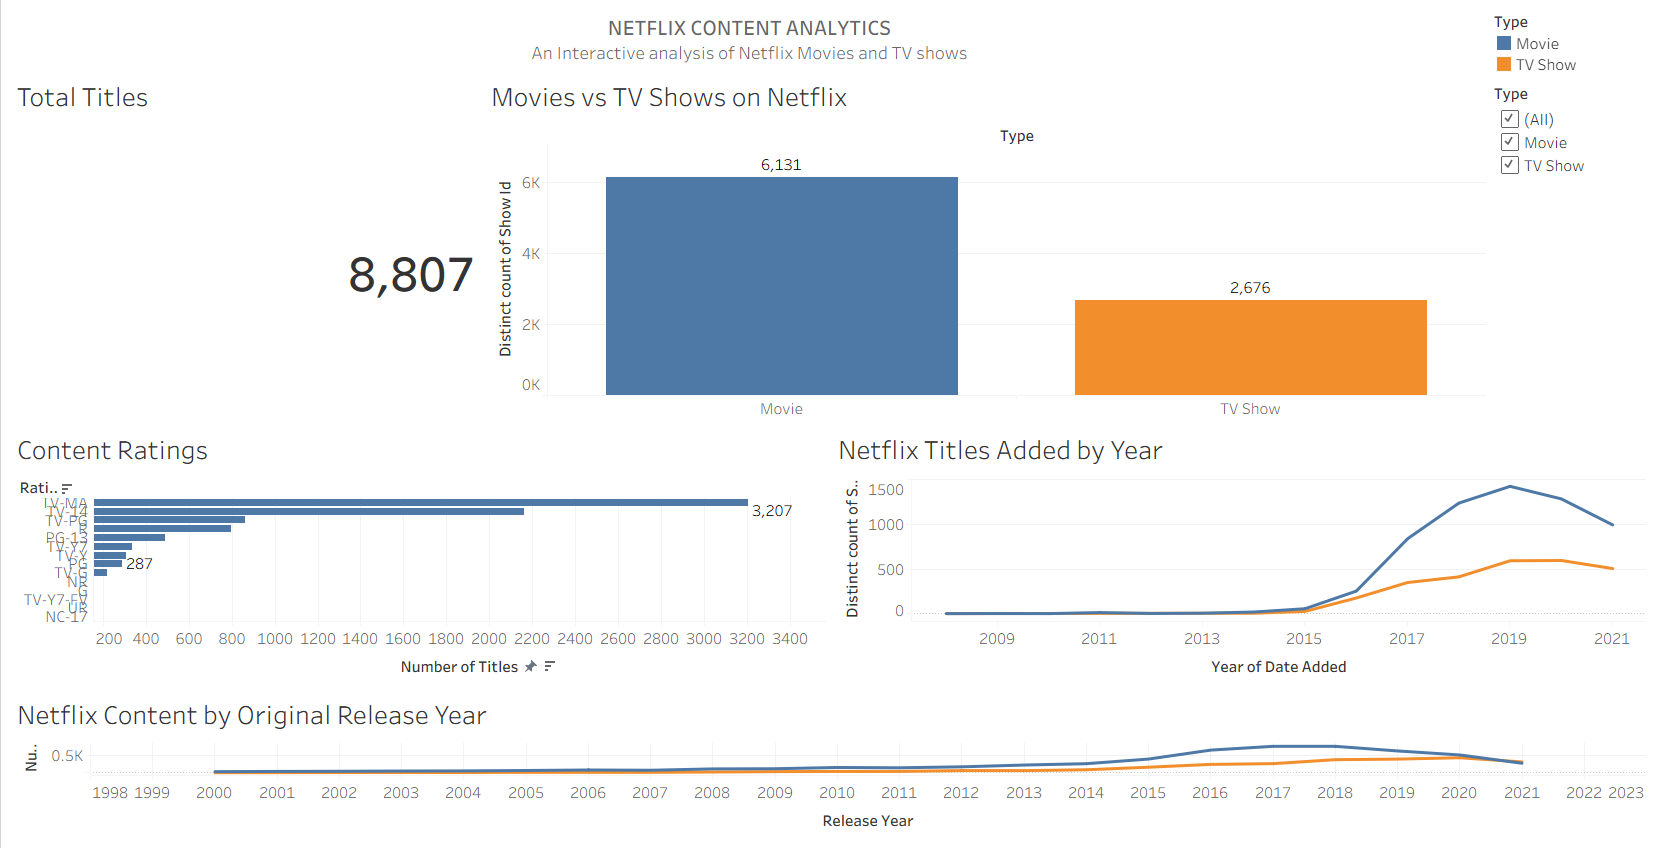

What the dashboard file says about the page in this screenshot:
{"tool":"tableau","page":{"name":"Netflix Overview Dashboard","canvas":[1000,1000],"units":"permille","ordinal":2},"visuals":[{"type":"text","box":[4.8,9.4,893.8,75.6]},{"type":"legend","title":"Movies vs TV Shows on Netflix","param":"[federated.0eufnai0agxeri1cmofw512g7qs7].[none:type:nk]","box":[898.6,9.4,96.6,84.6]},{"type":"worksheet","title":"Total Titles","mark":"Automatic","box":[4.8,85,285.9,414.9]},{"type":"worksheet","title":"Movies vs TV Shows on Netflix","mark":"Automatic","rows":["show_id"],"cols":["type"],"box":[290.7,85,607.9,414.9]},{"type":"filter","title":"Movies vs TV Shows on Netflix","param":"[federated.0eufnai0agxeri1cmofw512g7qs7].[none:type:nk]","box":[898.6,94,96.6,123.4]},{"type":"worksheet","title":"Content Ratings","mark":"Automatic","rows":["rating"],"cols":["show_id"],"box":[4.8,499.9,495.2,310.6]},{"type":"worksheet","title":"Netflix Titles Added by Year","mark":"Line","rows":["show_id"],"cols":["date_added"],"box":[500,499.9,495.2,310.6]},{"type":"worksheet","title":"Netflix Content by Original Release Year","mark":"Line","rows":["show_id"],"cols":["release_year"],"box":[4.8,810.5,990.3,180.1]}]}

Visuals, with their boxes on the dashboard's canvas, which has no fixed pixel size, in thousandths of its width and height (x1, y1, x2, y2). These are canvas units, not pixel positions in the 1657x848 screenshot, which may show the page scaled, cropped or inside an application window:
text: [left=5, top=9, right=899, bottom=85]
"Movies vs TV Shows on Netflix" legend: [left=899, top=9, right=995, bottom=94]
"Total Titles" worksheet: [left=5, top=85, right=291, bottom=500]
"Movies vs TV Shows on Netflix" worksheet: [left=291, top=85, right=899, bottom=500]
"Movies vs TV Shows on Netflix" filter: [left=899, top=94, right=995, bottom=217]
"Content Ratings" worksheet: [left=5, top=500, right=500, bottom=810]
"Netflix Titles Added by Year" worksheet (Line marks): [left=500, top=500, right=995, bottom=810]
"Netflix Content by Original Release Year" worksheet (Line marks): [left=5, top=810, right=995, bottom=991]
